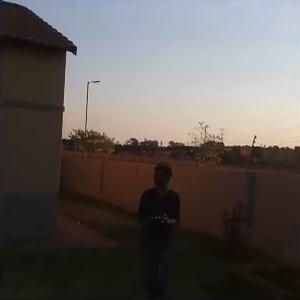follow: (128, 160, 180, 298)
